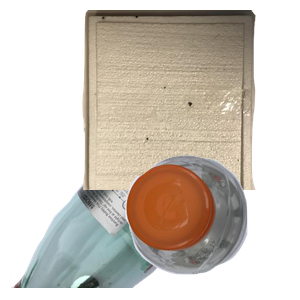glass: (10, 120, 224, 300)
metal: (81, 41, 234, 178)
plastic: (123, 152, 300, 300)
trash: (80, 10, 300, 190)
